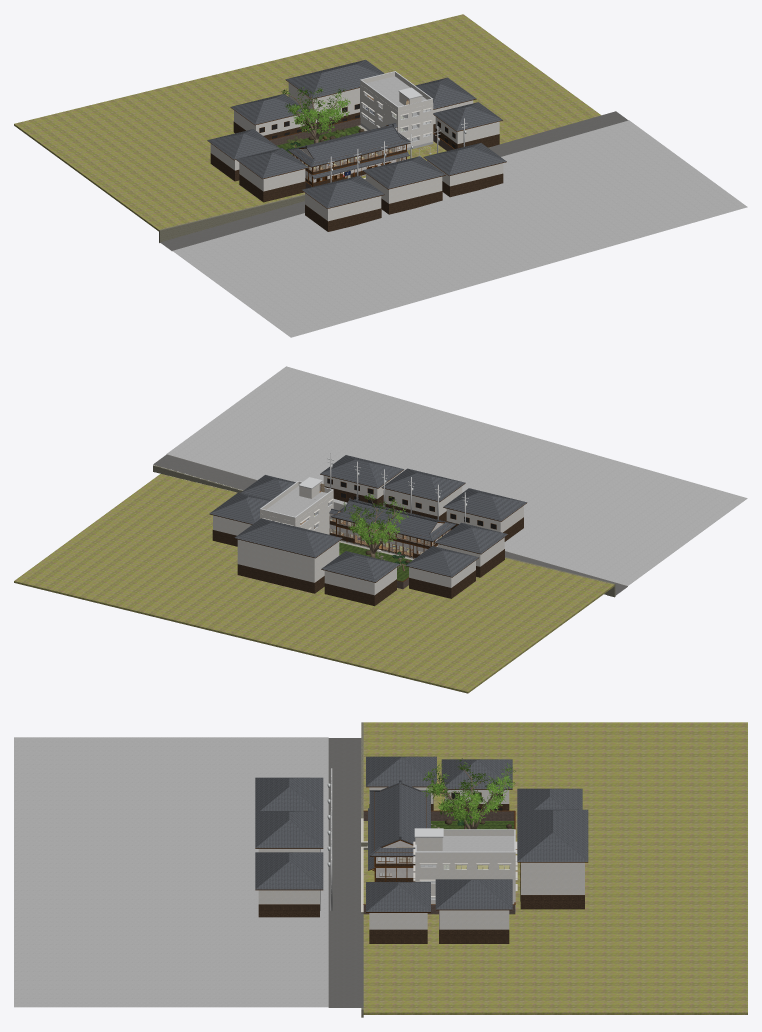
File: OokeyakiRyokan.mobile.glb
3 renders of one model, top to bottom at view 1: azimuth 30°, elevation 25°; view 2: azimuth 150°, elevation 25°; view 3: azimuth 270°, elevation 25°, orthographic. The views are drawn at different scales.
Visible parts, largest first — view 1: Site_Road, Site_Ground, Site_Neighbors, Roof_Honkan, Site_Ookeyaki_0_NoCol, Site_Wall, S3_Walls, S4_Walls, S2_Walls, Site_Fence, S1_Walls, S4_Floor; view 2: Site_Ground, Site_Road, Site_Neighbors, Roof_Honkan, Site_Ookeyaki_0_NoCol, S4_Walls, S4_Floor, Site_Wall, S3_Walls, H1_Walls; view 3: Site_Road, Site_Ground, Site_Neighbors, Roof_Honkan, Site_Ookeyaki_0_NoCol, S3_Walls, S4_Walls, S4_Floor, Site_Fence, S2_Walls, S4_Trim, Site_Wall (+2 smaller).
Part boxes in pixels (x1,y1,x2,y2): Site_Road: [160, 111, 747, 337]; Site_Ground: [14, 14, 600, 231]; Site_Neighbors: [207, 59, 506, 231]; Roof_Honkan: [288, 124, 410, 167]; Site_Ookeyaki_0_NoCol: [281, 87, 350, 133]; Site_Wall: [159, 177, 365, 242]; S3_Walls: [360, 84, 433, 124]; S4_Walls: [360, 72, 432, 111]; S2_Walls: [360, 97, 433, 135]; Site_Fence: [269, 117, 454, 188]; S1_Walls: [360, 109, 433, 150]; S4_Floor: [366, 76, 426, 106]; Site_Ground: [14, 474, 614, 693]; Site_Road: [153, 366, 747, 595]; Site_Neighbors: [209, 455, 527, 606]; Roof_Honkan: [331, 498, 456, 542]; Site_Ookeyaki_0_NoCol: [343, 493, 408, 545]; S4_Walls: [260, 481, 333, 521]; S4_Floor: [266, 486, 327, 516]; Site_Wall: [153, 465, 615, 597]; S3_Walls: [260, 494, 333, 528]; H1_Walls: [337, 522, 437, 558]; Site_Road: [14, 737, 363, 1007]; Site_Ground: [363, 722, 747, 1014]; Site_Neighbors: [255, 756, 588, 943]; Roof_Honkan: [369, 780, 430, 856]; Site_Ookeyaki_0_NoCol: [422, 758, 515, 824]; S3_Walls: [413, 841, 517, 874]; S4_Walls: [414, 830, 515, 858]; S4_Floor: [416, 836, 514, 851]; Site_Fence: [363, 810, 515, 914]; S2_Walls: [413, 862, 517, 890]; S4_Trim: [414, 828, 515, 852]; Site_Wall: [361, 722, 367, 1017].
Size of the model in its own units: 120 by 18.28 by 126.
163 materials, 72 textured.
